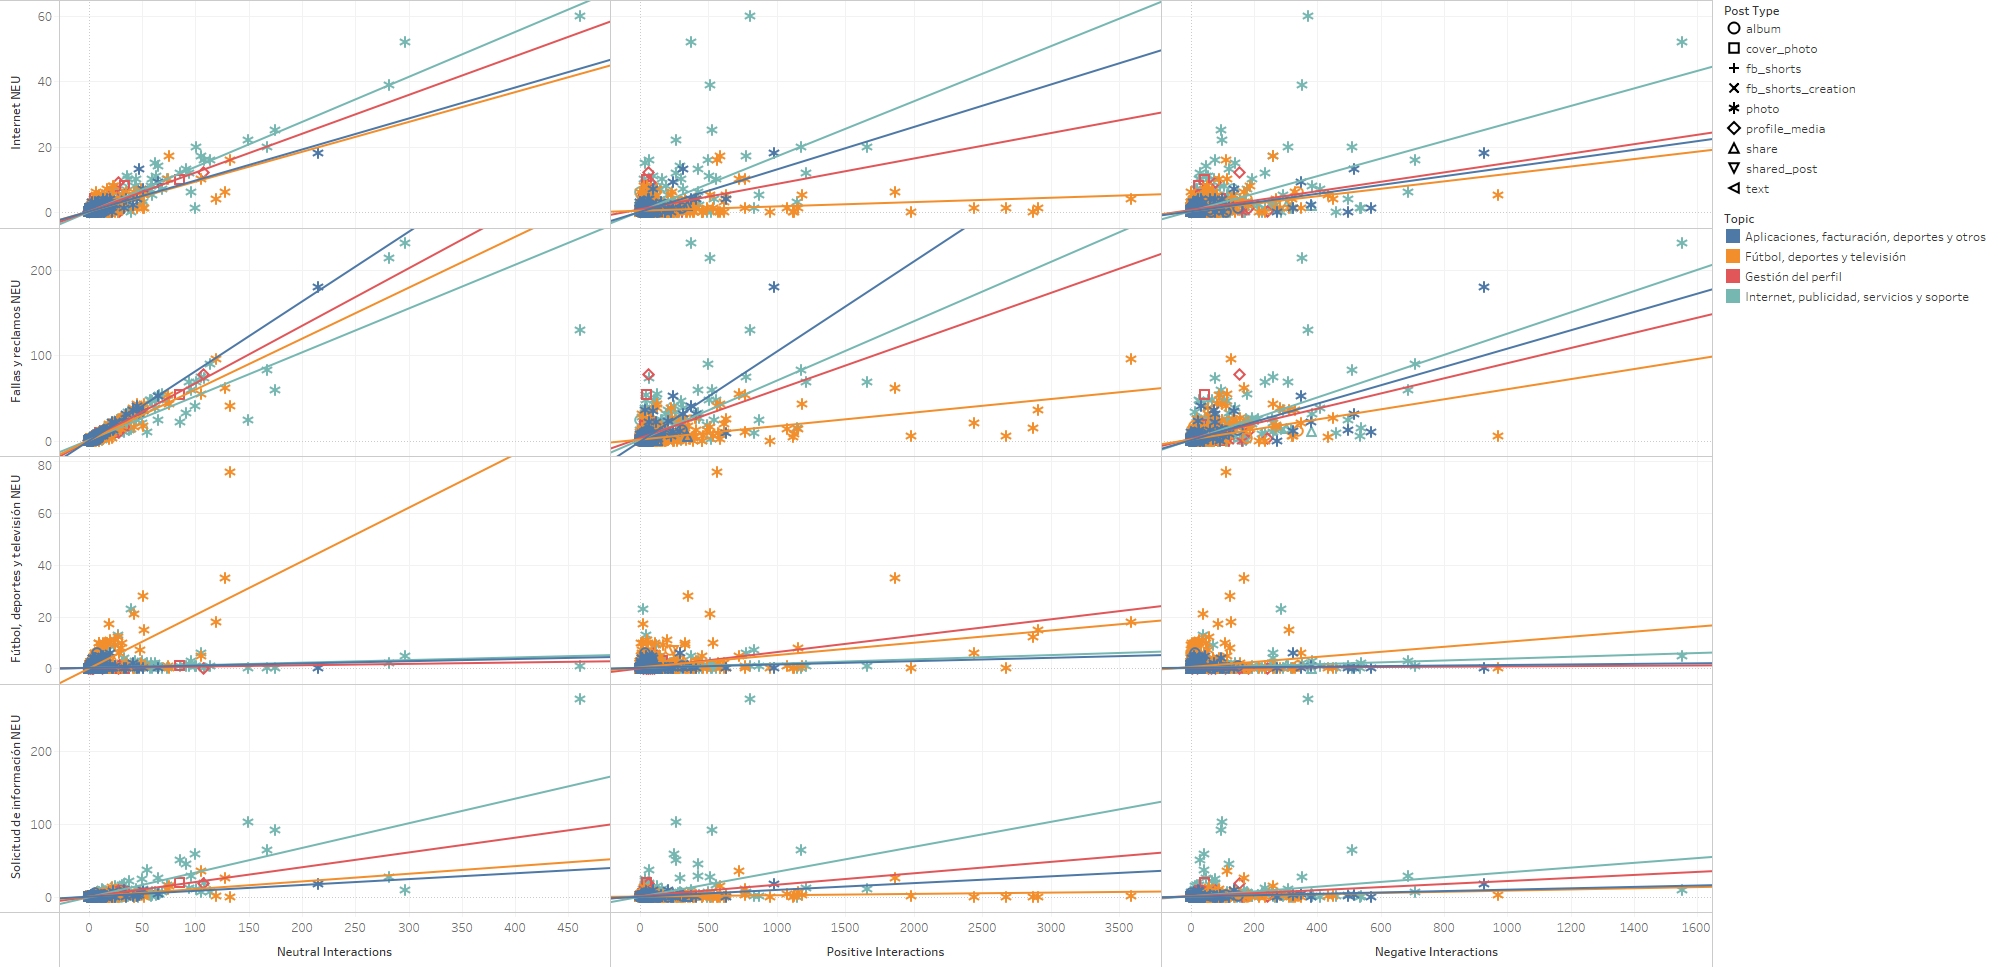

What the dashboard file says about the page in this screenshot:
{"tool":"tableau","page":{"name":"Interacciones por polaridad y tópicos Dashboard","canvas":[850,1100],"ordinal":1},"visuals":[{"type":"worksheet","title":"Interacciones neutrales y sentimientos por tópicos","mark":"Shape","rows":["Internet_NEU","Fallas y reclamos_NEU","Fútbol, deportes y televisión_NEU","Solicitud de información_NEU"],"cols":["Calculation_744219881121890312","Calculation_744219881119596550","Calculation_744219881121411079"],"box":[8,8,674,1084]},{"type":"legend","title":"Interacciones neutrales y sentimientos por tópicos","param":"[federated.1sww35l1iechlw1awsbao0zzbgp5].[none:topic:nk]","box":[682,8,160,106]},{"type":"legend","title":"Interacciones neutrales y sentimientos por tópicos","param":"[federated.1sww35l1iechlw1awsbao0zzbgp5].[none:Post Type:nk]","box":[682,114,160,206]}]}

Visuals, with their boxes on the page's 850x1100 design canvas (x1, y1, x2, y2). These are canvas units, not pixel positions in the 1991x968 screenshot, which may show the page scaled, cropped or inside an application window:
"Interacciones neutrales y sentimientos por tópicos" worksheet (Shape marks): box=[8, 8, 682, 1092]
"Interacciones neutrales y sentimientos por tópicos" legend: box=[682, 8, 842, 114]
"Interacciones neutrales y sentimientos por tópicos" legend: box=[682, 114, 842, 320]
